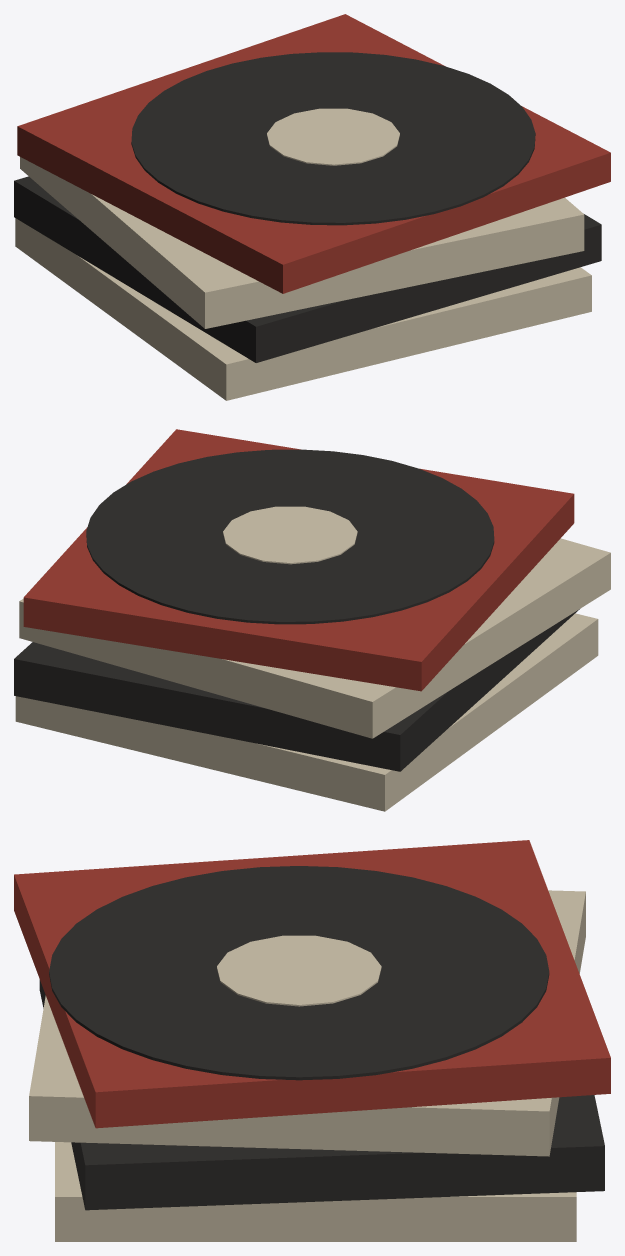
File: record-stack.glb
3 views of the same model, one above another, from view 1: azimuth 30°, elevation 25°; view 2: azimuth 150°, elevation 25°; view 3: azimuth 270°, elevation 25° (orthographic). The views are drawn at different scales.
Parts seen in each view (by area): view 1: plastic-dark, paper, accent-warm; view 2: plastic-dark, paper, accent-warm; view 3: plastic-dark, paper, accent-warm.
Part boxes in pixels (box(x1,y1,x2,y2)): plastic-dark: box(14, 52, 601, 362); paper: box(15, 108, 591, 400); accent-warm: box(17, 14, 610, 293); plastic-dark: box(14, 449, 579, 771); paper: box(15, 506, 610, 811); accent-warm: box(23, 429, 574, 691); plastic-dark: box(39, 866, 604, 1210); paper: box(29, 890, 585, 1241); accent-warm: box(14, 840, 610, 1128).
Bounding box in the file's own units: 0.3604 × 0.117 × 0.3604.
